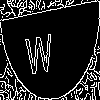W: (25, 25, 53, 76)
